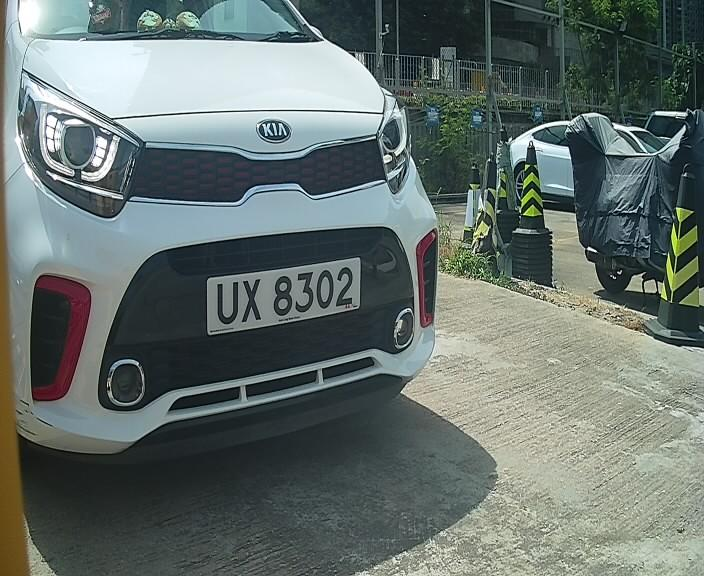License Plate: (199, 250, 365, 340)
